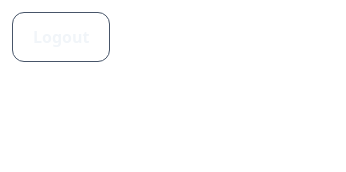
it: logout (mocked Supabase) › keeps failures visible, private and retryable
The width and height of the screenshot is (346, 172).
Click the button "Logout": (61, 37) [12, 12, 110, 62]
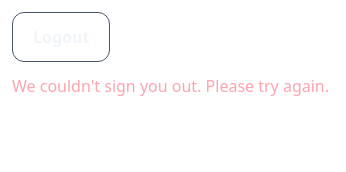
Check: the message shows "couldn't sign you out", box [12, 75, 329, 97]
